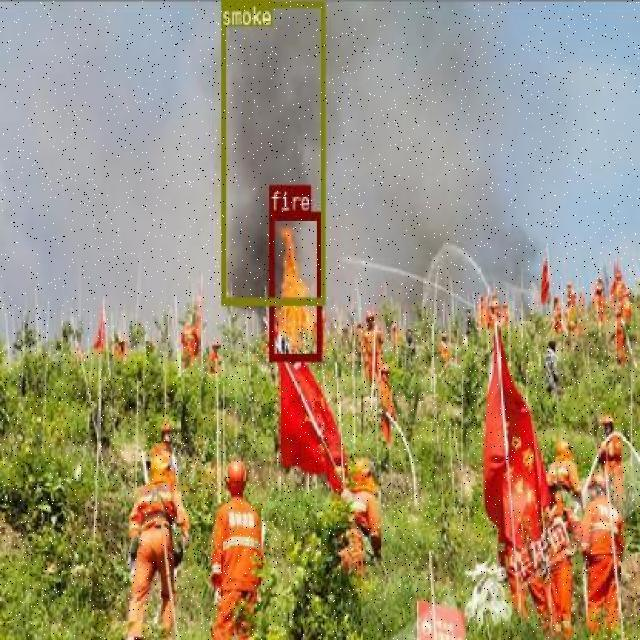Smoke: (215, 0, 318, 238)
